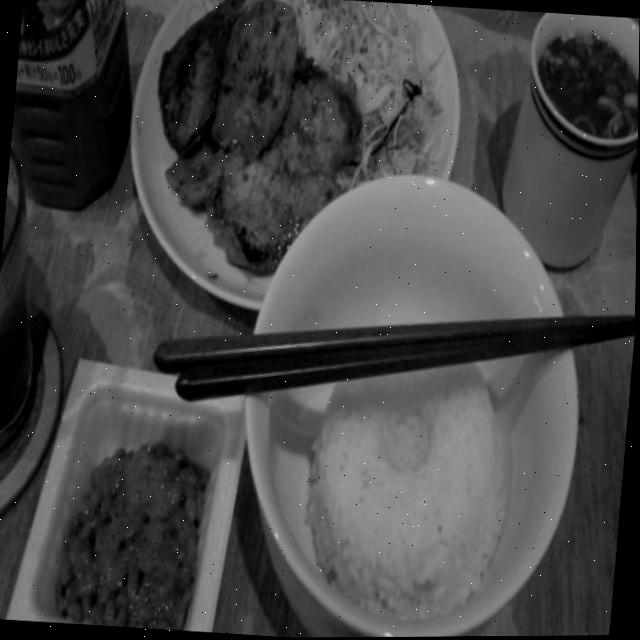汤锅炖物: (525, 15, 640, 155)
猪肉菜式: (132, 0, 380, 268)
米饭主食: (286, 320, 539, 638)
